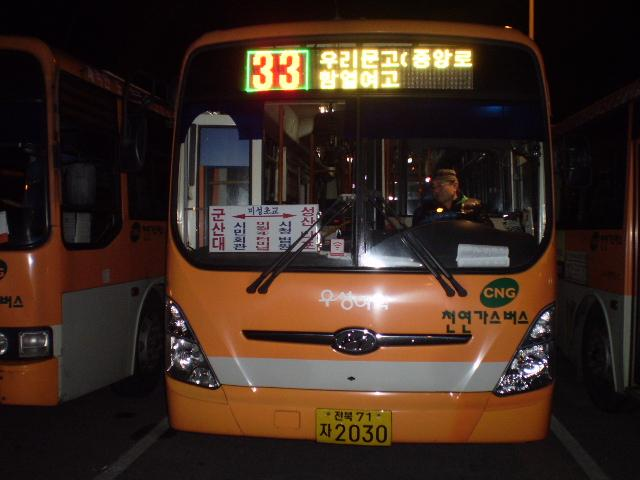bnum: (247, 49, 308, 89)
